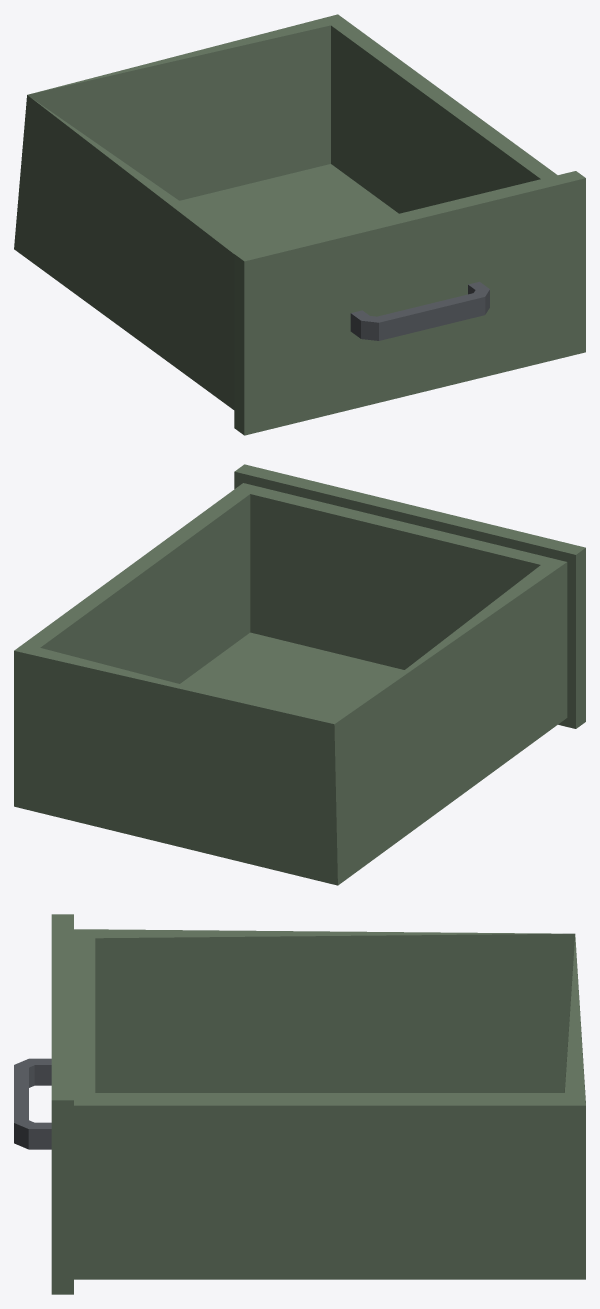
File: SM_Prop_WorkBench_02_Drawer_02.fbx
The picture shows the model from 3 angles, top to bottom: view 1: azimuth 30°, elevation 25°; view 2: azimuth 150°, elevation 25°; view 3: azimuth 270°, elevation 25°; orthographic projection. The views are drawn at different scales.
Visible parts, largest first — view 1: SM_Prop_WorkBench_02_Drawer_02; view 2: SM_Prop_WorkBench_02_Drawer_02; view 3: SM_Prop_WorkBench_02_Drawer_02.
Boxes of the visible parts, bbox=[...] form: SM_Prop_WorkBench_02_Drawer_02: bbox=[14, 14, 585, 435]; SM_Prop_WorkBench_02_Drawer_02: bbox=[14, 464, 585, 885]; SM_Prop_WorkBench_02_Drawer_02: bbox=[14, 914, 585, 1294].
Bounding box in the file's own units: 61.62 × 30.03 × 80.04.
